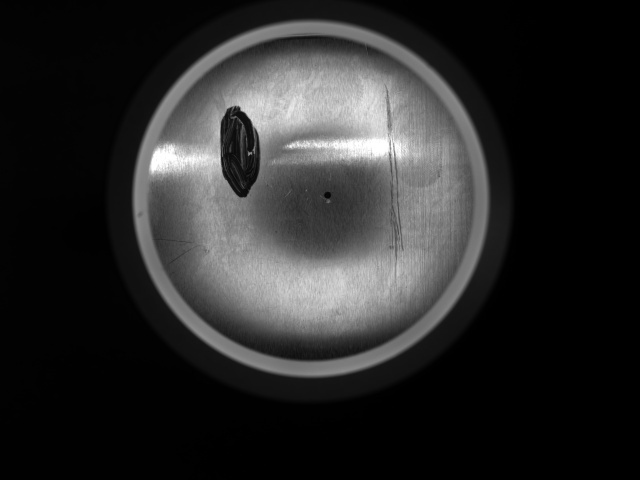ca_shang: (375, 80, 416, 288)
zang_wu: (216, 104, 264, 199)
zhen_kong: (318, 189, 337, 204)
